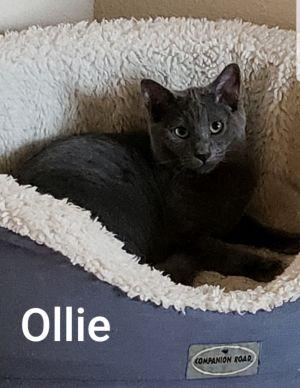rblue: (136, 60, 256, 187)
